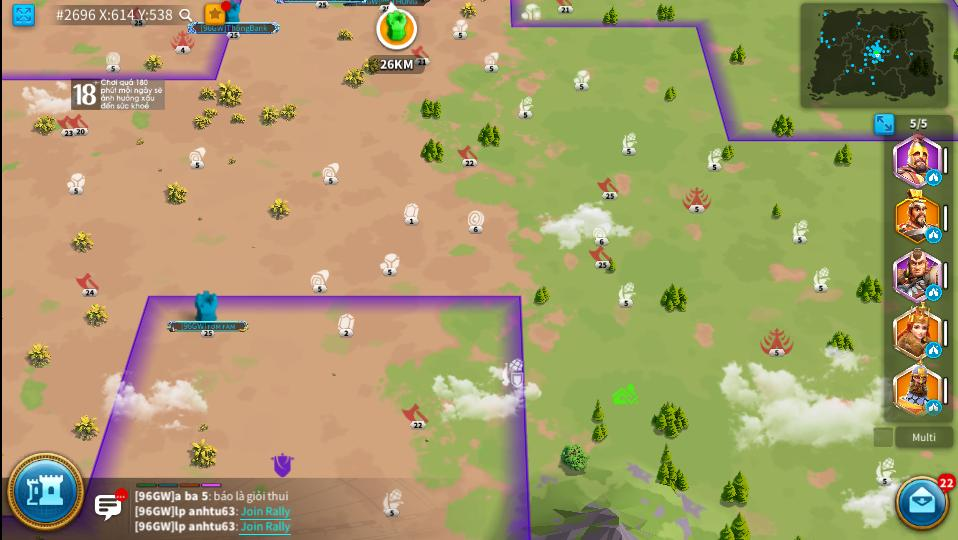gem-z-out: (337, 313, 355, 338), (404, 202, 418, 224)
march_idle: (925, 228, 942, 242), (926, 170, 940, 185), (927, 400, 941, 415), (926, 285, 940, 299), (928, 343, 940, 357)
